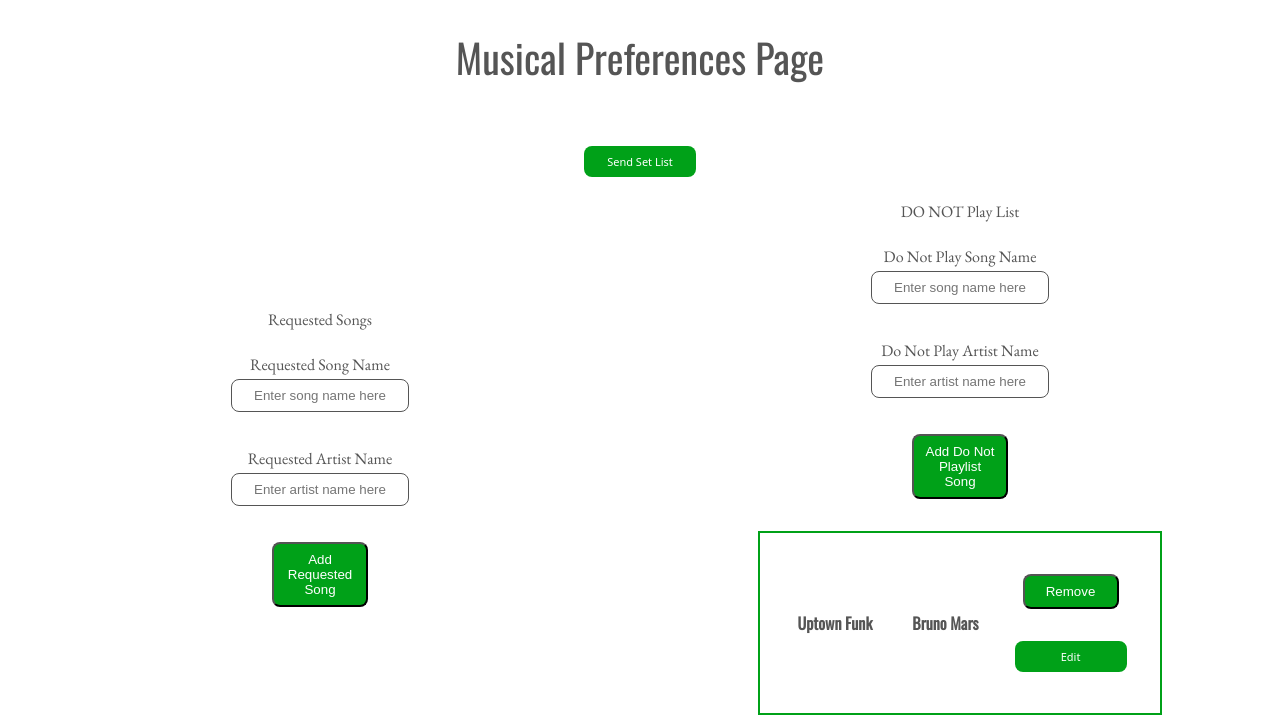
Test: <ClientHomePage/> › Set List Isn't available › Deleted song doesn't display
Expected: the heading "Uptown Funk" is shown, [797, 611, 872, 635]
Click the button with test id "RemoveButton": (1070, 591) [1022, 574, 1118, 609]
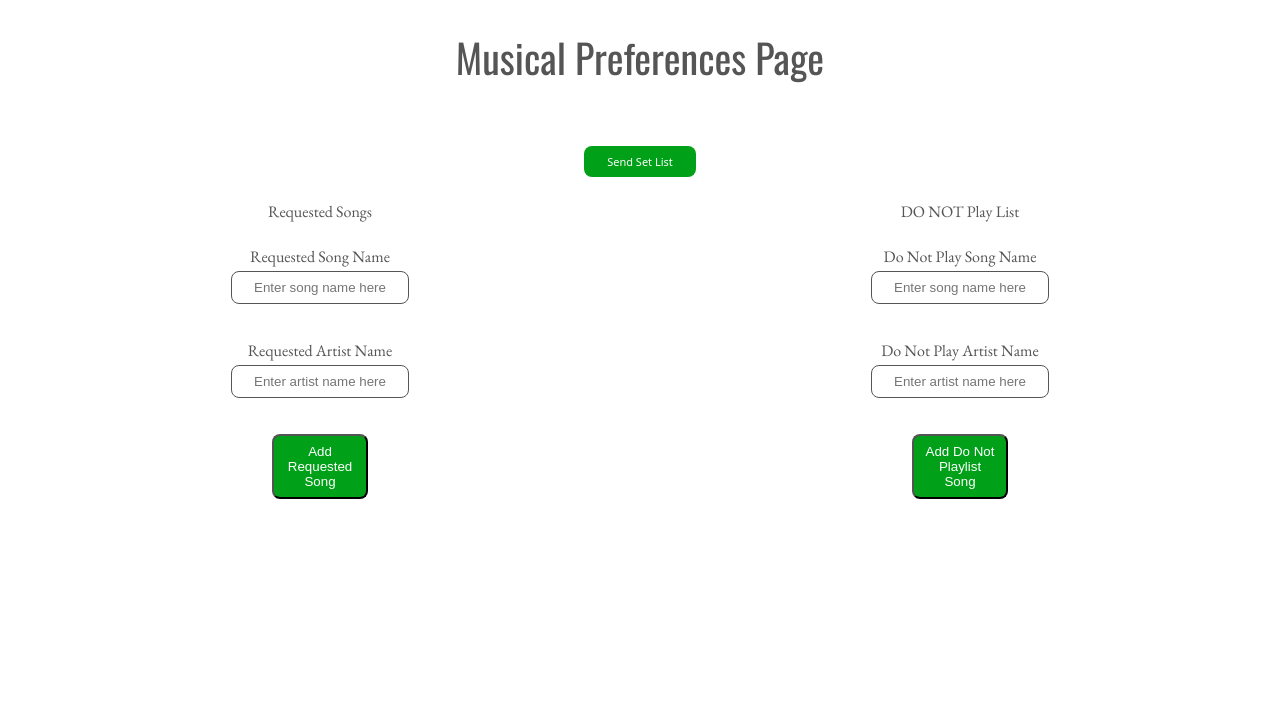
Now the heading "Uptown Funk" is gone
